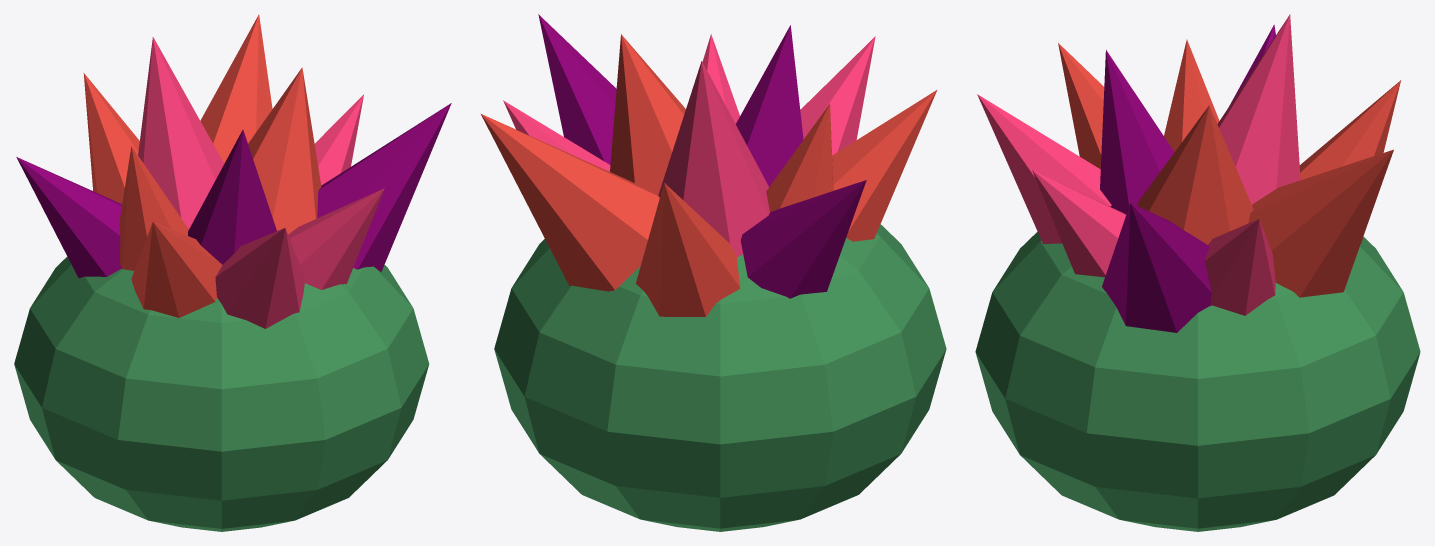
File: Plant-01.fbx
3 renders of one model, left to right at view 1: azimuth 30°, elevation 25°; view 2: azimuth 150°, elevation 25°; view 3: azimuth 270°, elevation 25°, orthographic. The views are drawn at different scales.
Parts seen in each view (by area): view 1: Plant-01; view 2: Plant-01; view 3: Plant-01.
Part boxes in pixels (left/top/right/bottom): Plant-01: left=14, top=14, right=451, bottom=531; Plant-01: left=481, top=14, right=946, bottom=531; Plant-01: left=975, top=14, right=1420, bottom=531.
Size of the model in its own units: 89.73 by 102 by 85.27.
